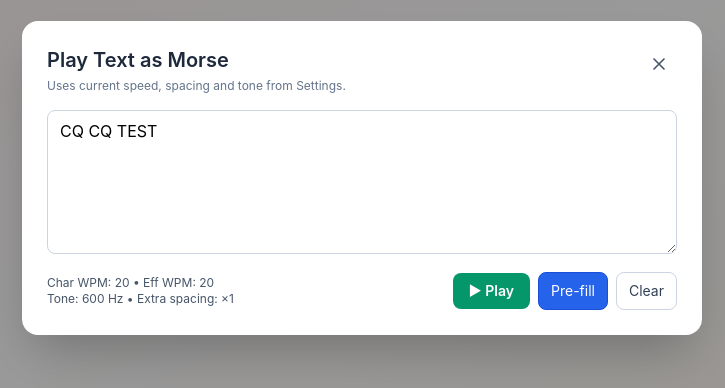
it: TextPlayerModal › should show stop button when playing
The image size is (725, 388).
Click the button "▶ Play". click: (491, 291)
box: [453, 273, 530, 309]
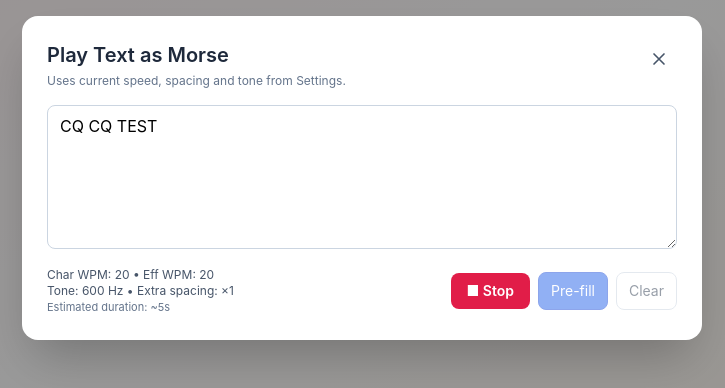
Expected: the button "■ Stop" is shown, [450, 273, 530, 309]
